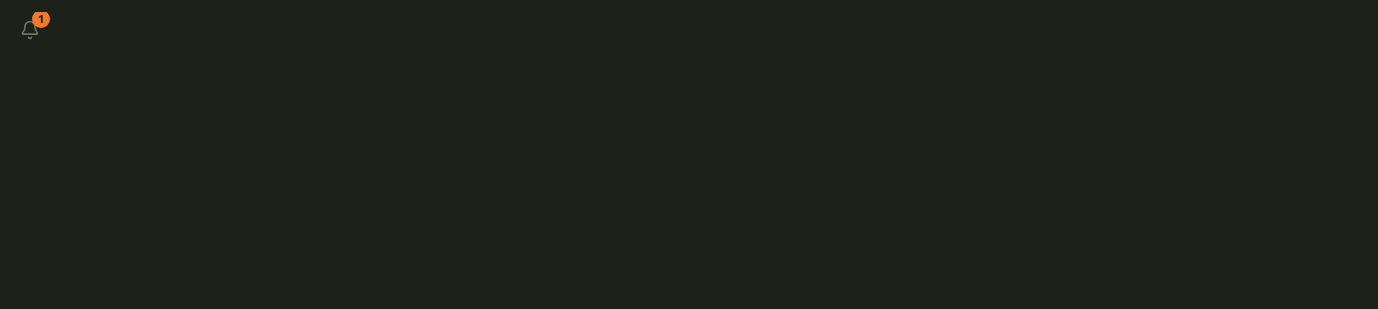
Test: NotificationBell panel › closes on a click outside
Click the button named "Notifications, 1 unread" at point(30, 30), box [12,12,48,48]
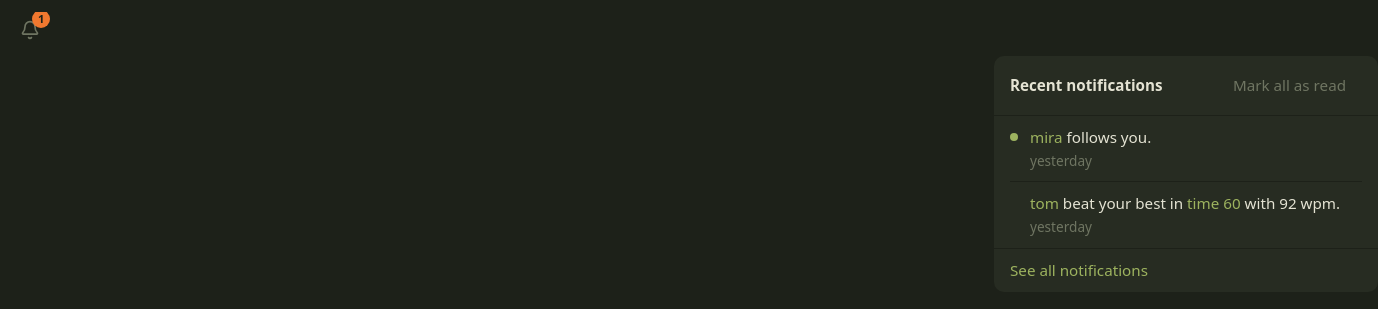
Result: the element "Recent notifications" is shown at [994,56,1377,292]
Press the mouse on the element that starts with "Recent notifications" at point(695, 30), box [12,12,1377,48]
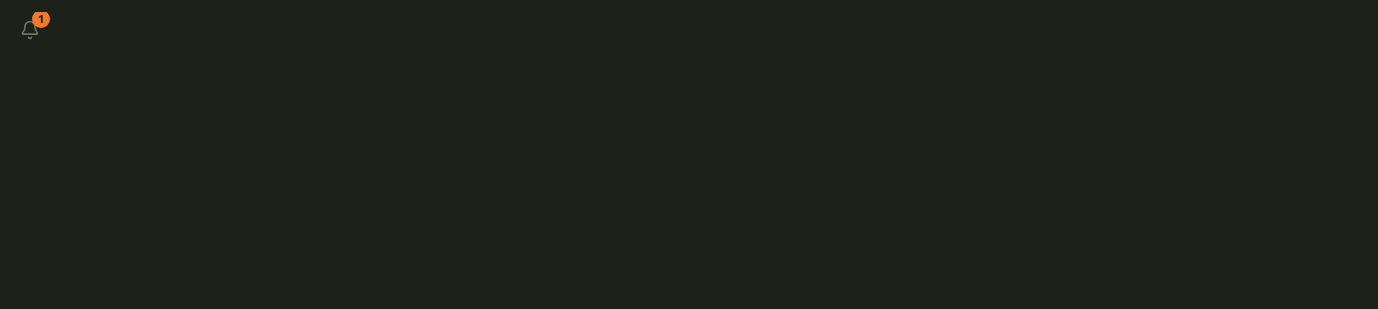
Result: the heading "Recent notifications" is gone
